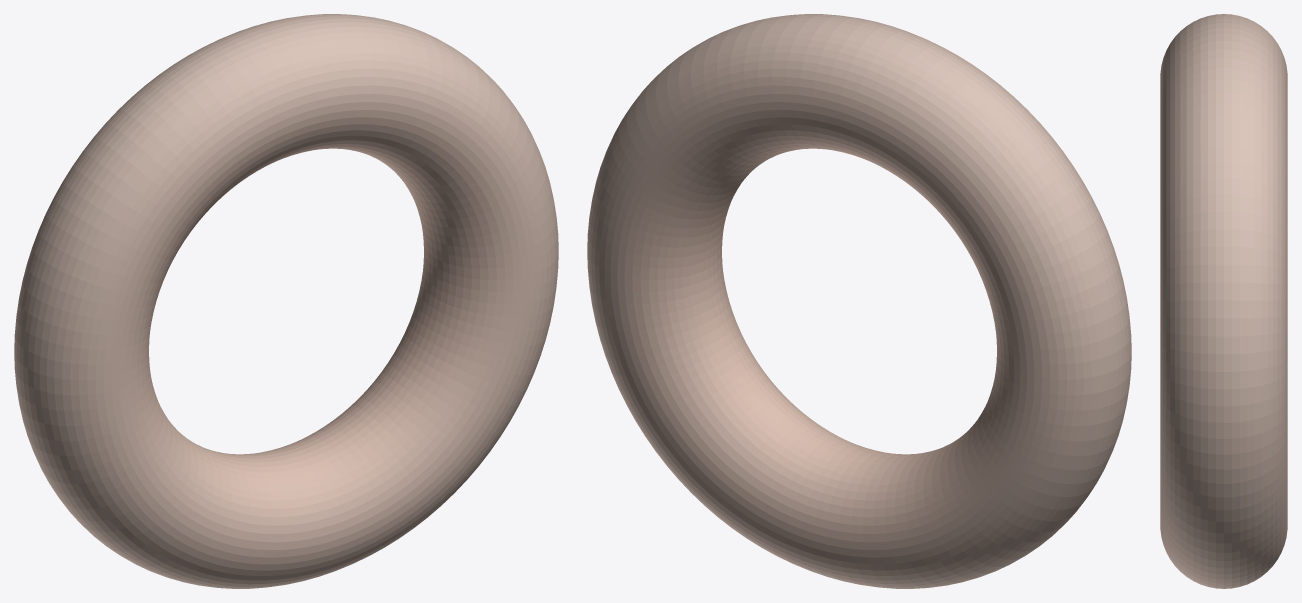
3 renders of one model, left to right at view 1: azimuth 30°, elevation 25°; view 2: azimuth 150°, elevation 25°; view 3: azimuth 270°, elevation 25°, orthographic. The views are drawn at different scales.
Visible parts, largest first — view 1: world; view 2: world; view 3: world.
Boxes of the visible parts, x1,y1,x2,y2 form: world: (14,14,558,588); world: (587,14,1131,588); world: (1160,14,1287,588).
Bounding box in the file's own units: 28.27 × 28.27 × 6.25.
